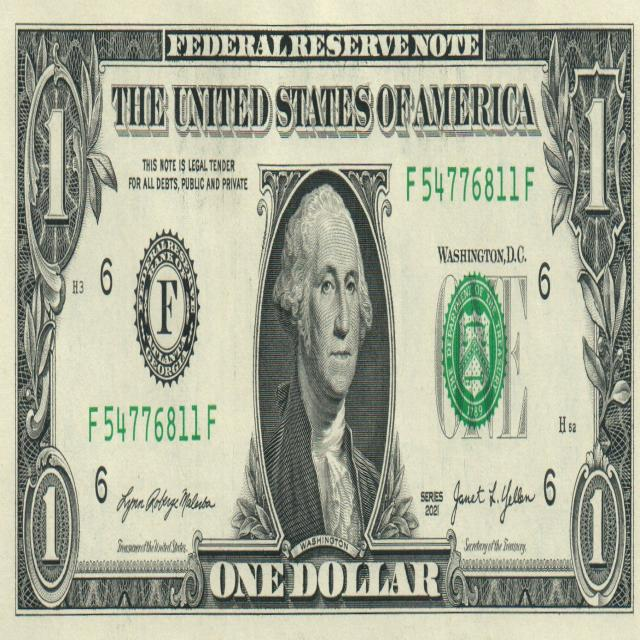SerialNumber: (407, 166, 534, 202), (89, 405, 200, 442)
